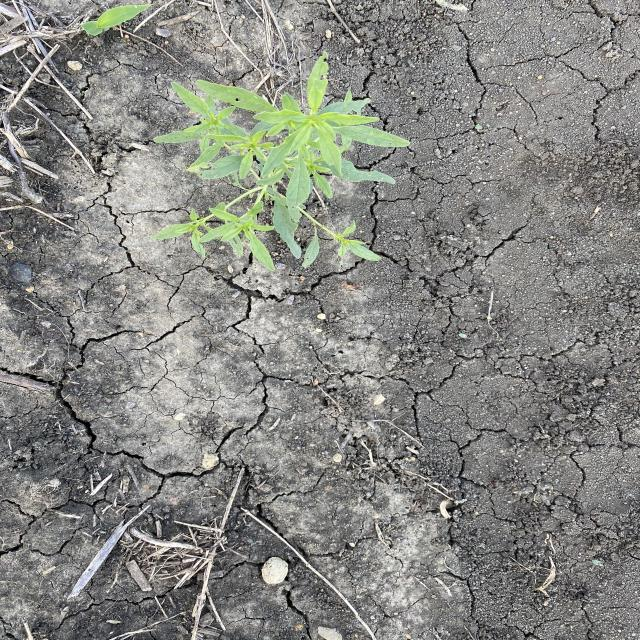Waterhemp: (152, 48, 414, 278)
